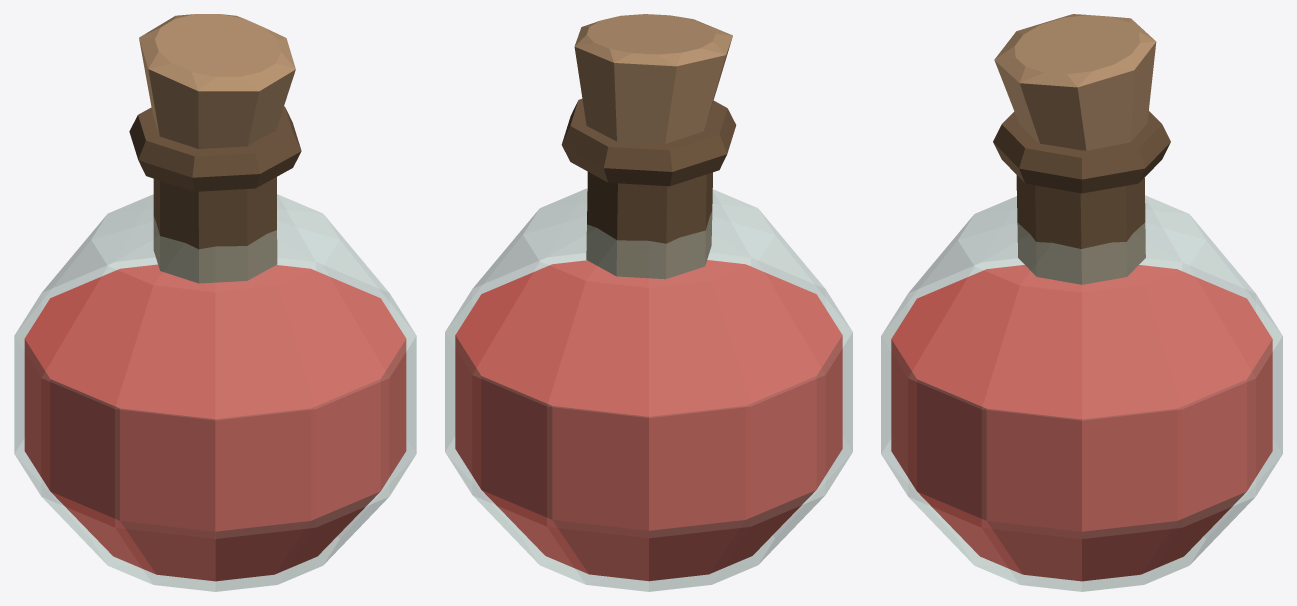
Rendered from potion.glb.
3 views of the same model, side by side, from view 1: azimuth 30°, elevation 25°; view 2: azimuth 150°, elevation 25°; view 3: azimuth 270°, elevation 25° (orthographic).
Parts seen in each view (by area): view 1: Sphere.002, Sphere.001, Sphere, Cylinder.001, Cylinder, Torus; view 2: Sphere.002, Sphere.001, Sphere, Cylinder.001, Cylinder, Torus; view 3: Sphere.002, Sphere.001, Sphere, Cylinder.001, Cylinder, Torus.
Boxes of the visible parts, x1,y1,x2,y2 form: Sphere.002: (24, 264, 406, 581); Sphere.001: (14, 258, 416, 591); Sphere: (15, 194, 415, 420); Cylinder.001: (139, 14, 295, 148); Cylinder: (153, 177, 277, 283); Torus: (129, 106, 301, 191); Sphere.002: (455, 260, 842, 581); Sphere.001: (445, 253, 852, 591); Sphere: (445, 188, 852, 417); Cylinder.001: (574, 14, 732, 143); Cylinder: (586, 172, 712, 279); Torus: (561, 99, 736, 186); Sphere.002: (891, 265, 1272, 581); Sphere.001: (881, 259, 1282, 591); Sphere: (881, 195, 1282, 420); Cylinder.001: (994, 14, 1156, 150); Cylinder: (1016, 175, 1145, 284); Torus: (993, 111, 1170, 193).
Size of the model in its own units: 0.6088 by 0.8795 by 0.6088.
